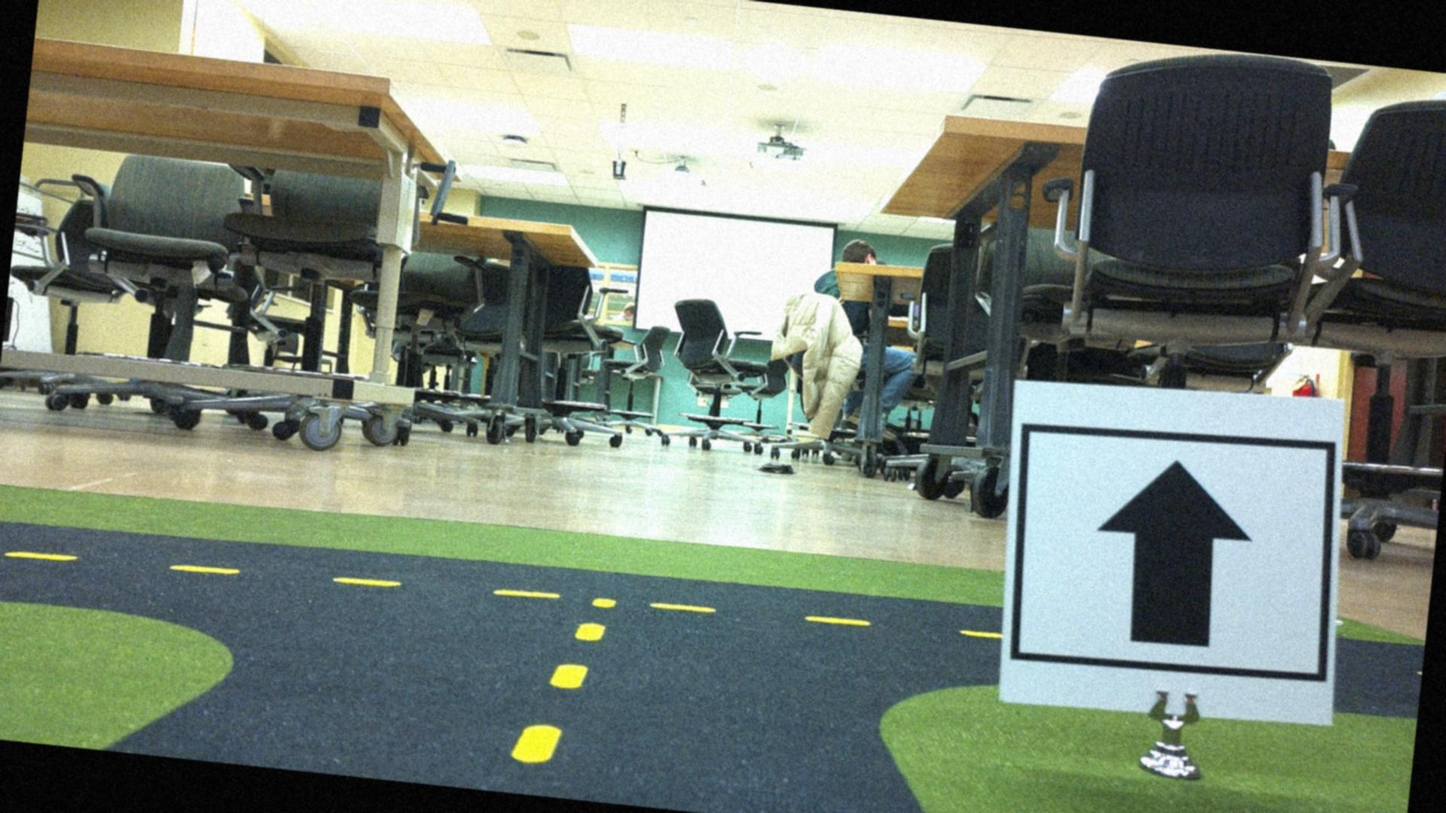gostraight: (992, 383, 1342, 718)
yellowline: (0, 525, 997, 659), (512, 591, 615, 773)
